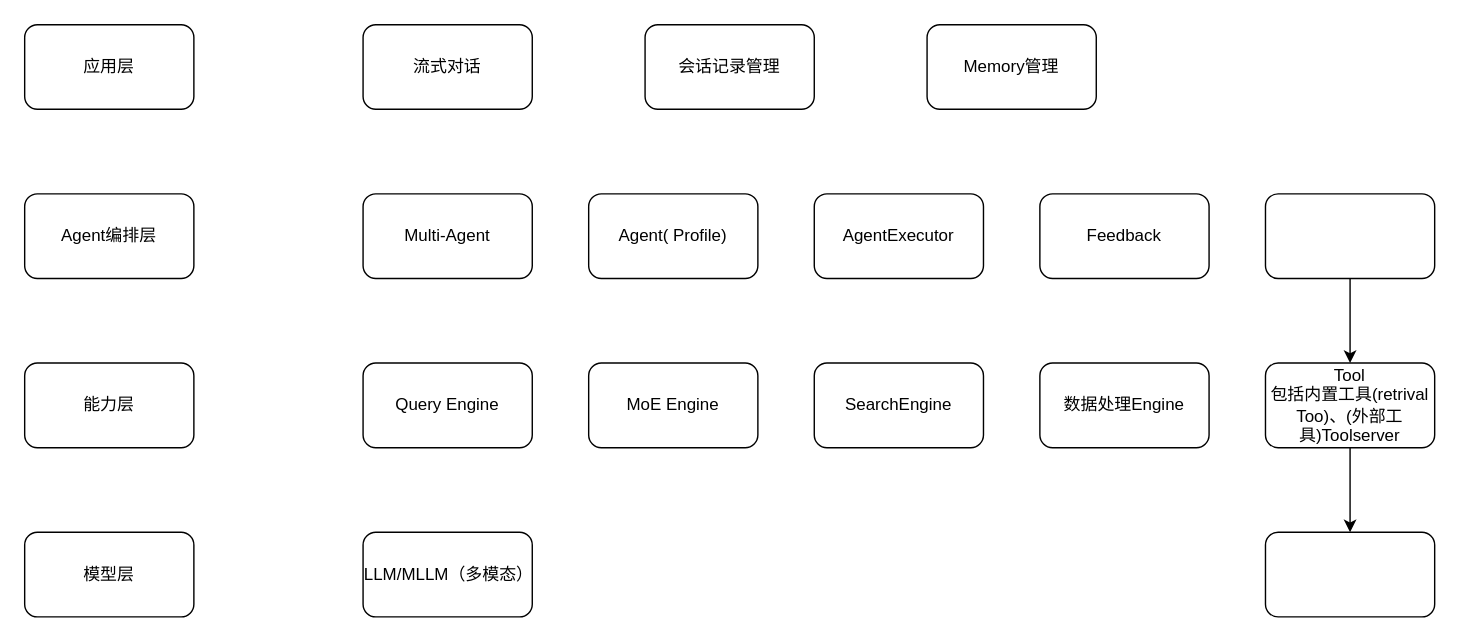
The diagram is 1459 pixels wide and 642 high, and some of its shapes have lost their labels. The centre of each missing label's shape, as x and y in pixels:
Action: [1349,235]
Environment (sandbox, physical): [1349,574]
